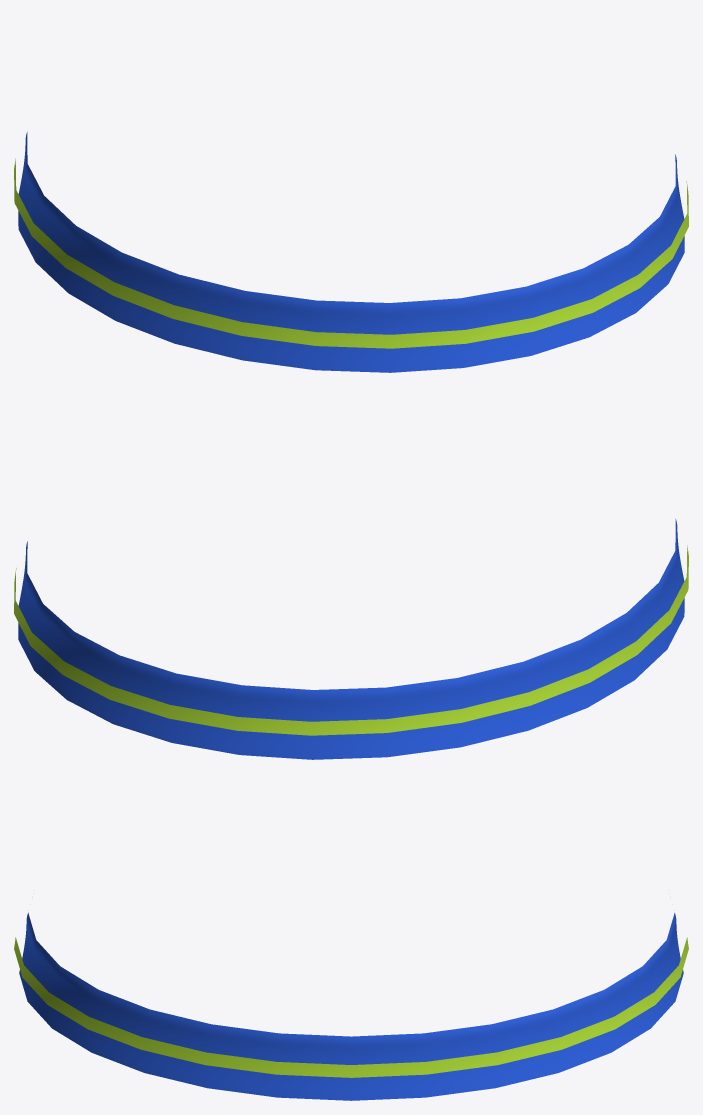
File: hat_headband_female.glb
3 renders of one model, top to bottom at view 1: azimuth 30°, elevation 25°; view 2: azimuth 150°, elevation 25°; view 3: azimuth 270°, elevation 25°, orthographic. The views are drawn at different scales.
Parts seen in each view (by area): view 1: band, band_stripe; view 2: band, band_stripe; view 3: band, band_stripe.
Boxes of the visible parts, box(x1,y1,x2,y2) form: band: box(18, 132, 684, 372); band_stripe: box(14, 158, 688, 348); band: box(18, 519, 684, 759); band_stripe: box(14, 545, 688, 735); band: box(19, 912, 683, 1100); band_stripe: box(14, 937, 688, 1077).
Bounding box in the file's own units: 0.3185 × 0.035 × 0.3519.
